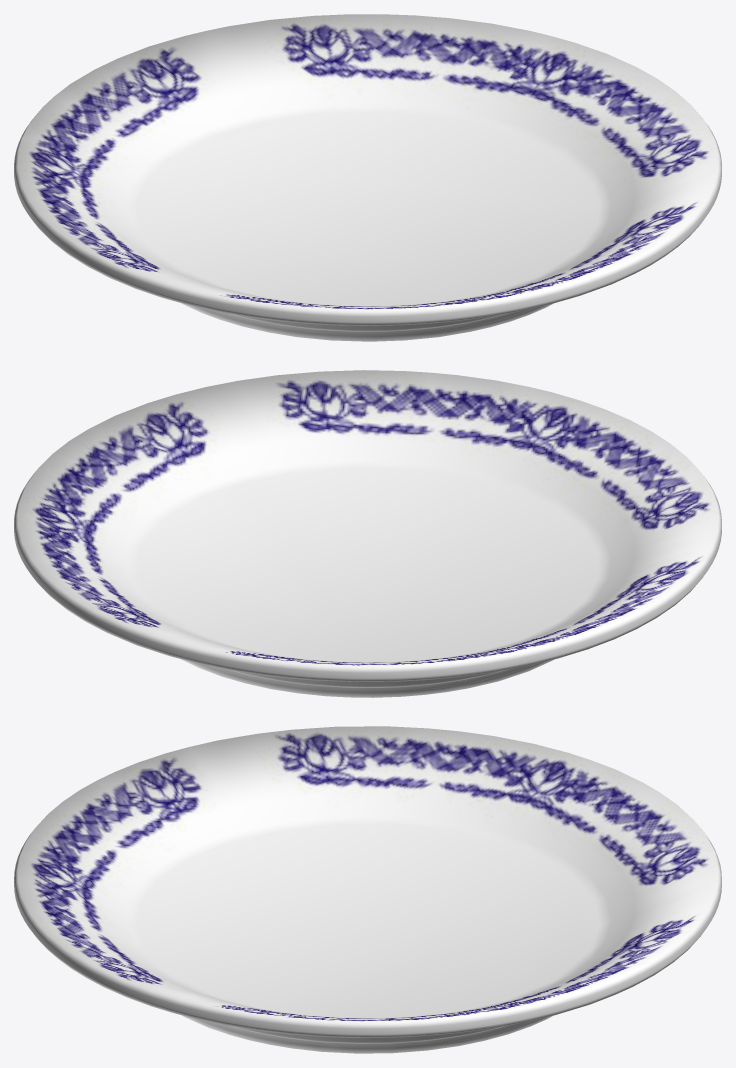
Rendered from Tarelka.fbx.
3 views of the same model, one above another, from view 1: azimuth 30°, elevation 25°; view 2: azimuth 150°, elevation 25°; view 3: azimuth 270°, elevation 25° (orthographic).
Parts seen in each view (by area): view 1: Tarelka; view 2: Tarelka; view 3: Tarelka.
Boxes of the visible parts, box(x1,y1,x2,y2) form: Tarelka: box(14, 14, 721, 341); Tarelka: box(14, 370, 721, 697); Tarelka: box(14, 726, 721, 1053).
Bounding box in the file's own units: 317 × 39.16 × 317.
